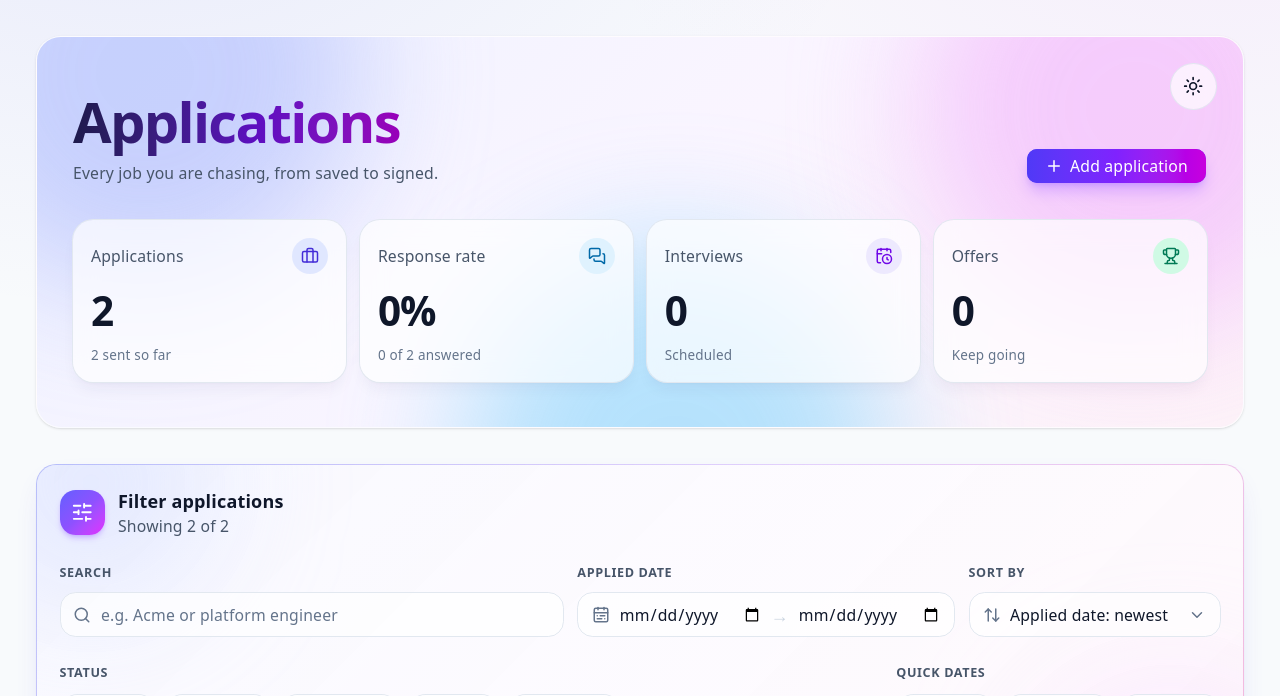
Test: ApplicationsPage API integration › asks for the offer text when the site blocks the download
Step 1. Click the button "Add application" → (1117, 166), box [1026,148,1207,184]
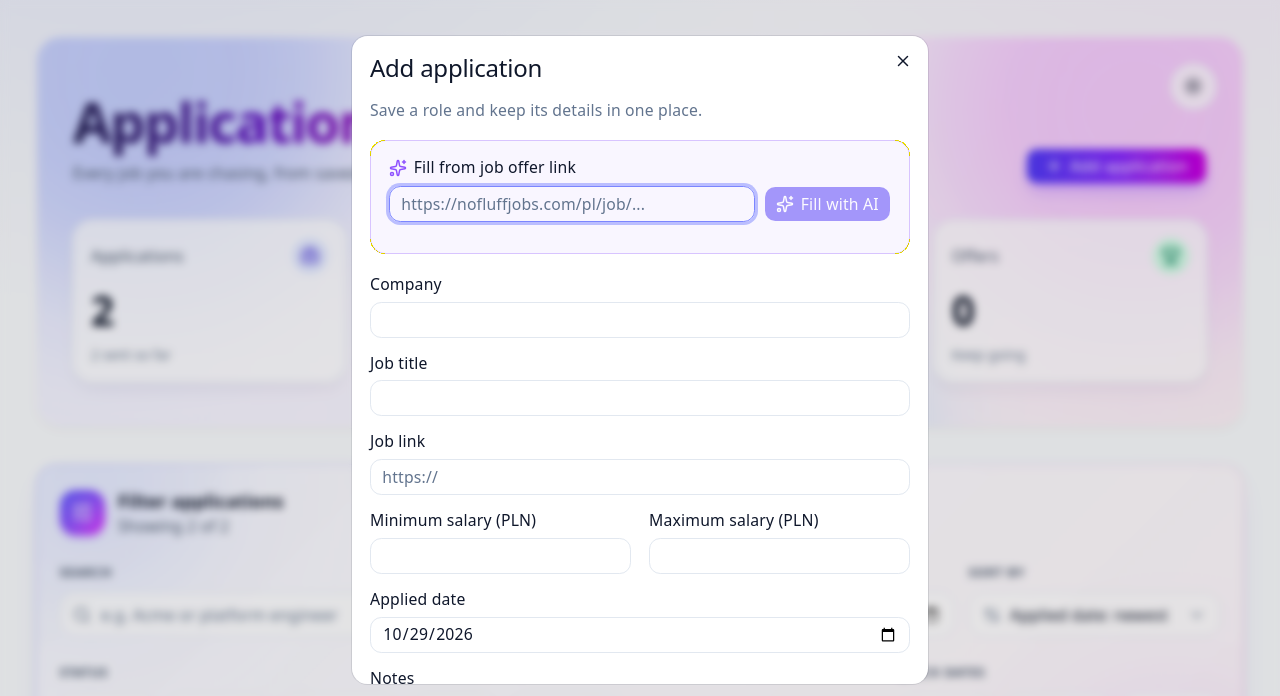
Step 2. Type "https://linkedin.com/jobs/1" into the field labelled "Fill from job offer link" → (572, 204), box [389,186,755,222]
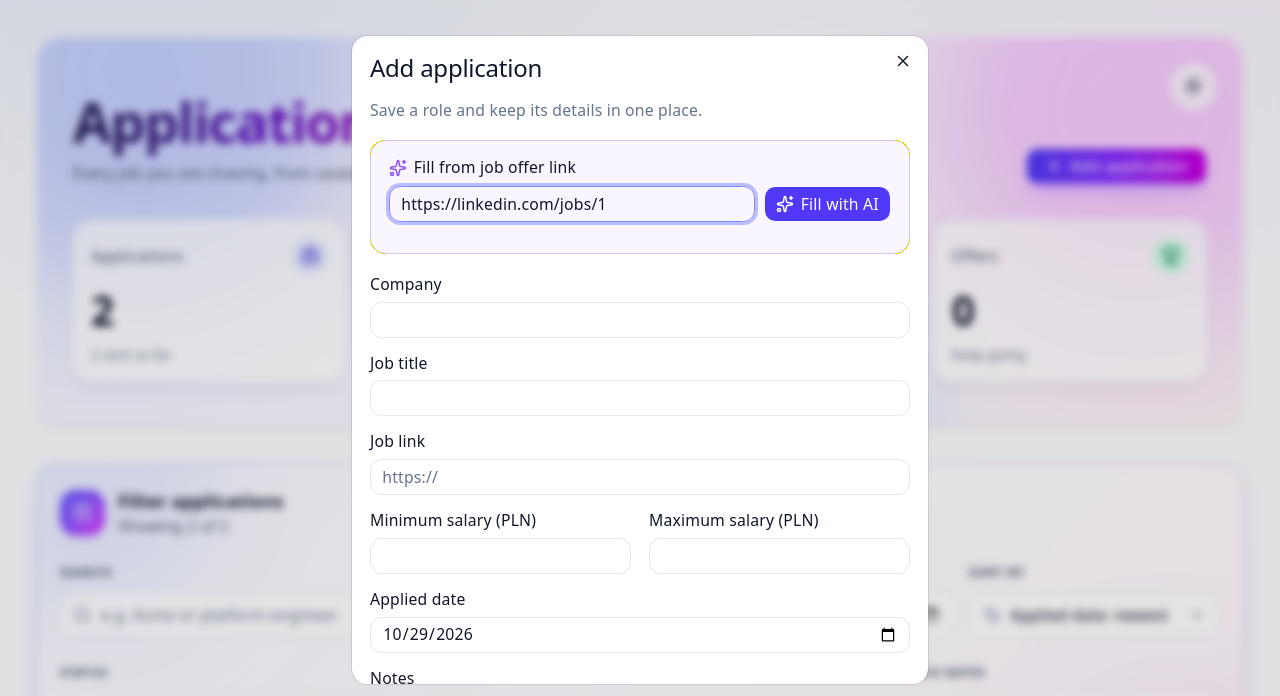
Step 3. Click the button "Fill with AI" → (827, 204), box [764,186,891,222]
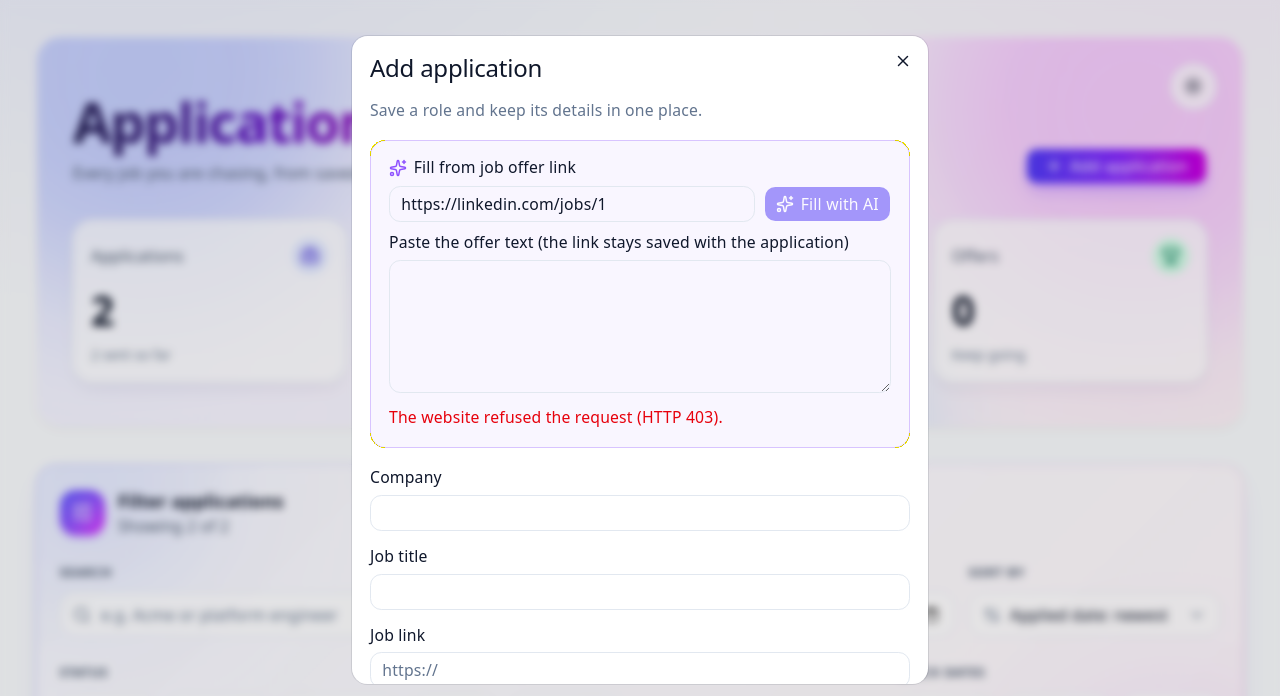
Expected: the message shows "HTTP 403", [389,406,723,428]
Step 4. Type "AI Engineer at Cedar Cloud" into the text box labelled "Paste the offer text" → (640, 326), box [389,260,891,393]
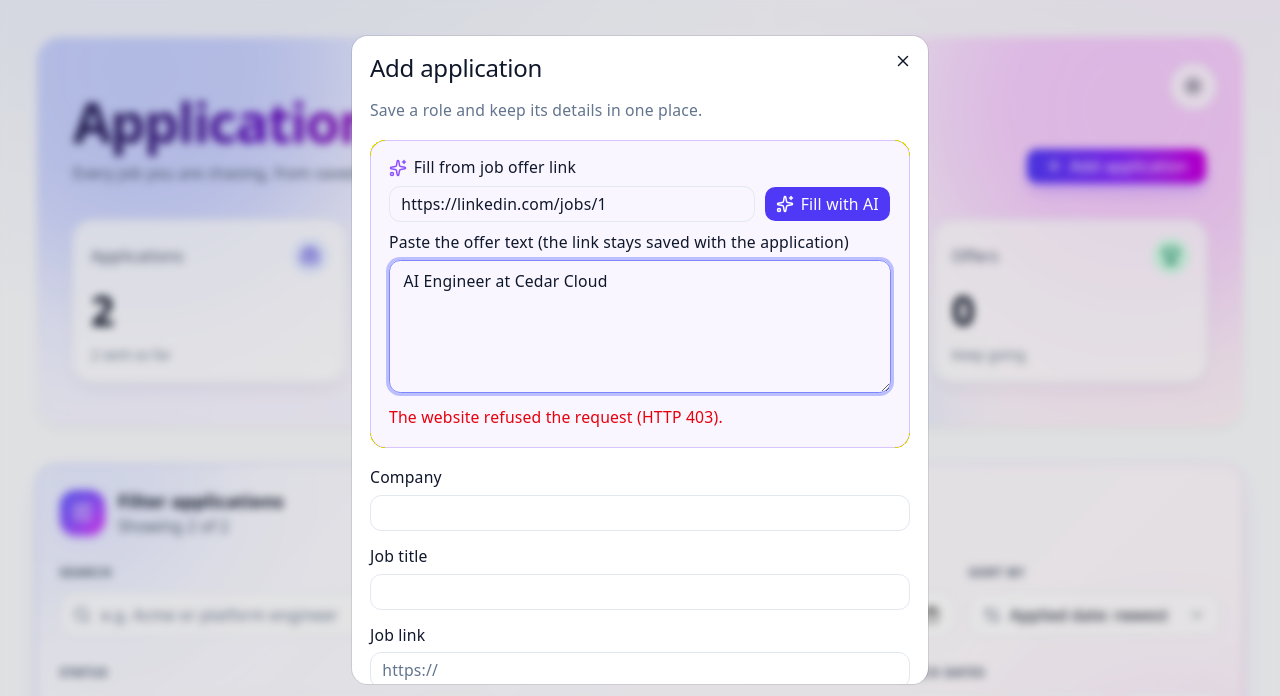
Step 5. Click the button "Fill with AI" → (827, 204), box [764,186,891,222]
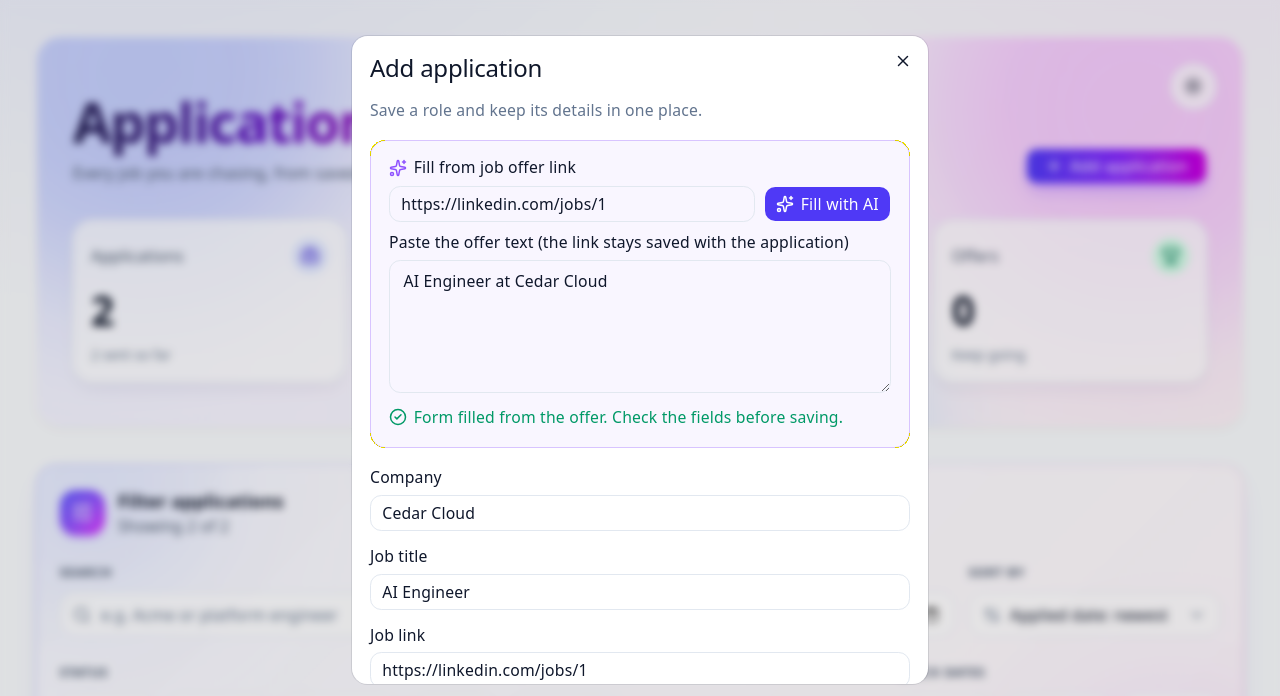
Expected: the field labelled "Company" holds "Cedar Cloud", [370,495,910,531]
